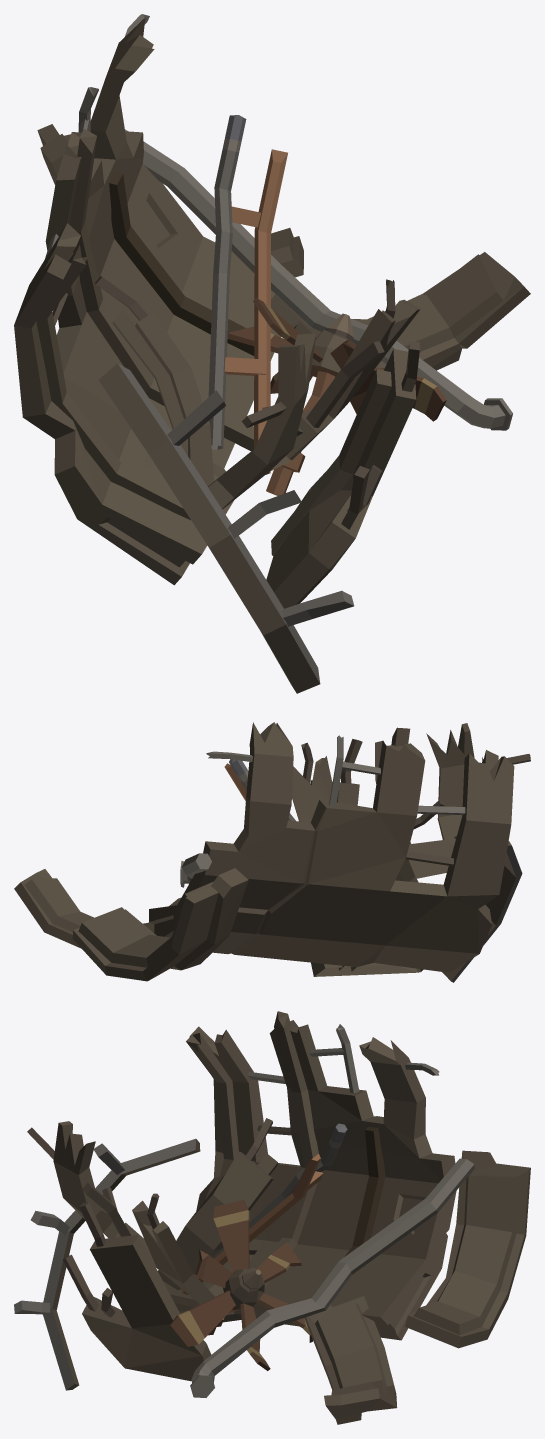
File: SM_Prop_Wreckage_03.fbx
3 views of the same model, one above another, from view 1: azimuth 30°, elevation 25°; view 2: azimuth 150°, elevation 25°; view 3: azimuth 270°, elevation 25° (orthographic). The views are drawn at different scales.
Visible parts, largest first — view 1: SM_Prop_Wreckage_03; view 2: SM_Prop_Wreckage_03; view 3: SM_Prop_Wreckage_03.
Part boxes in pixels (bbox=[...]): SM_Prop_Wreckage_03: bbox=[14, 14, 530, 693]; SM_Prop_Wreckage_03: bbox=[14, 722, 530, 982]; SM_Prop_Wreckage_03: bbox=[14, 1011, 530, 1424].
Size of the model in its own units: 1011 by 827 by 1040.
1 material, 1 textured.
